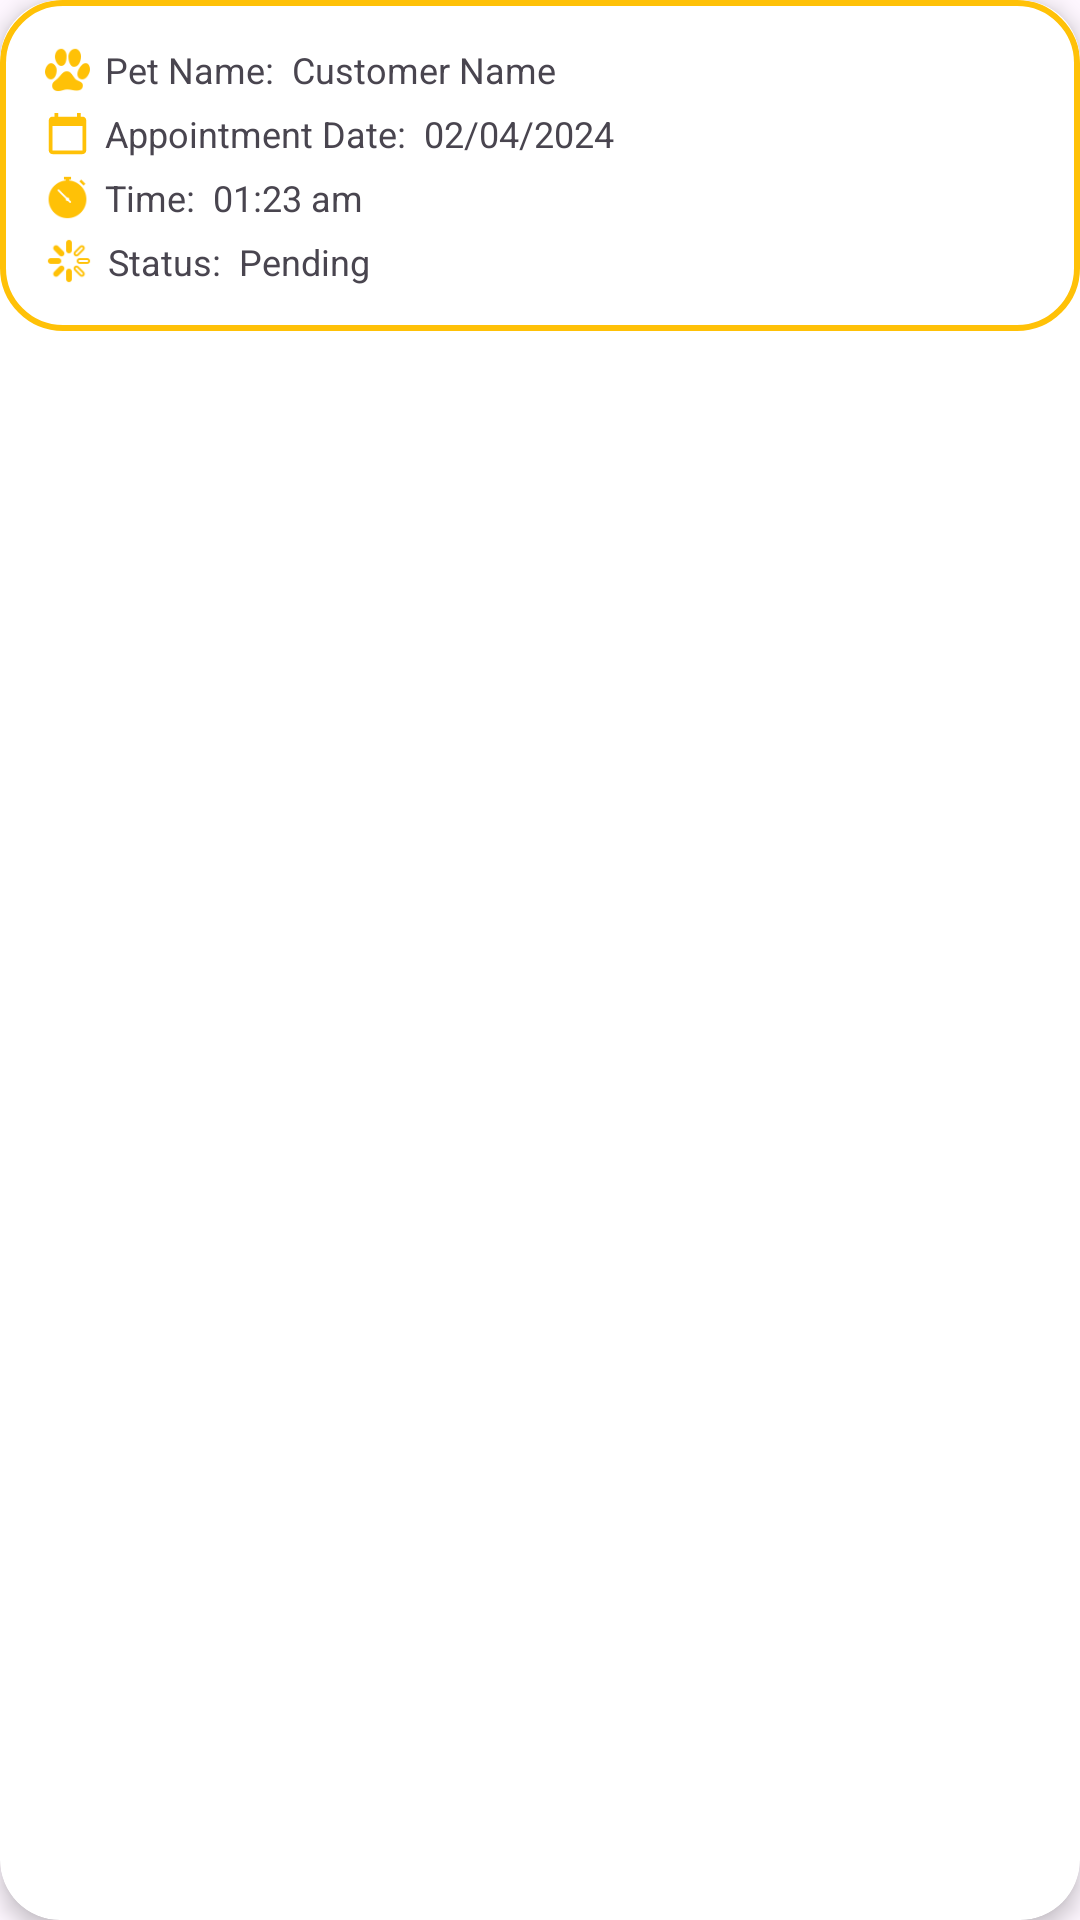

Icon bounding boxes for this 1080px×1920px phone screenshot, format (x1, y1, x2, y2):
calendar today: (48, 113, 87, 155)
clock: (48, 176, 87, 219)
